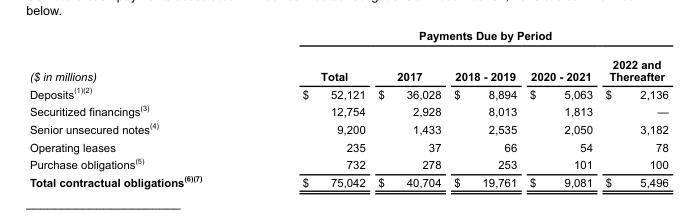table: (28, 29, 667, 188)
table column: (28, 29, 251, 188), (251, 29, 371, 188), (446, 29, 522, 188), (522, 29, 598, 188), (371, 29, 446, 188), (598, 29, 667, 188)
table column header: (28, 29, 667, 83)
table row: (28, 50, 667, 83), (28, 29, 667, 50), (28, 83, 667, 101), (28, 101, 667, 119), (28, 119, 667, 137), (28, 154, 667, 172), (28, 137, 667, 154), (28, 172, 667, 188)
table spanning cell: (28, 29, 251, 83), (251, 29, 667, 50)
